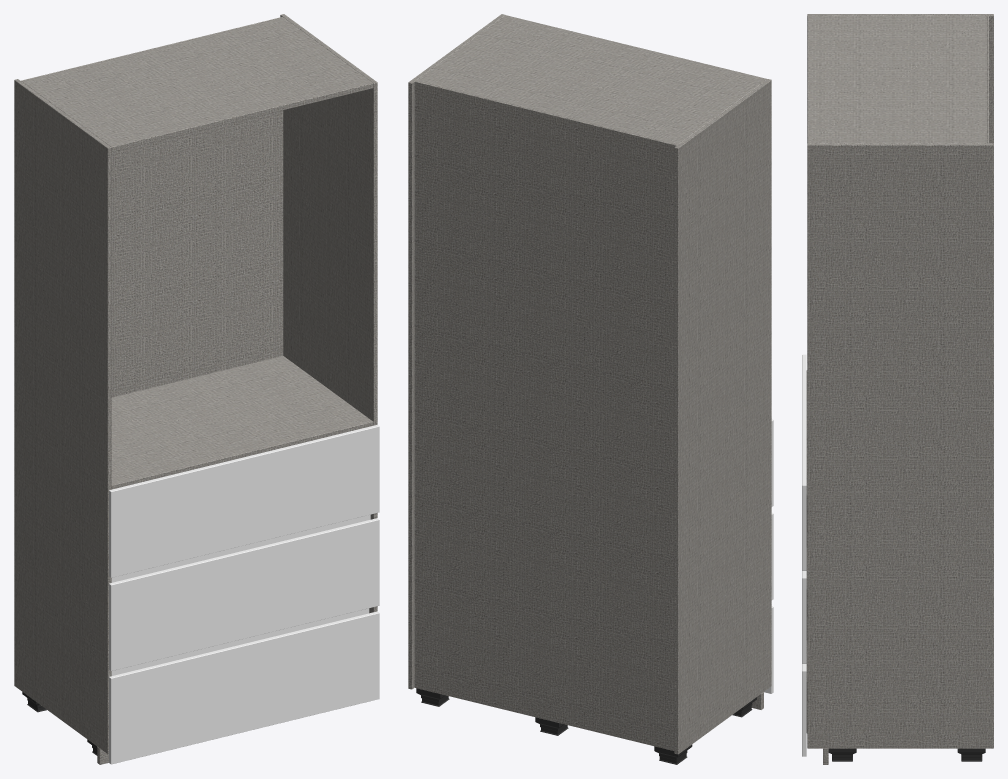
The model's file is cbib12168.gltf.
3 views of the same model, side by side, from view 1: azimuth 30°, elevation 25°; view 2: azimuth 150°, elevation 25°; view 3: azimuth 270°, elevation 25° (orthographic).
Parts seen in each view (by area): view 1: CBIB12168; view 2: CBIB12168; view 3: CBIB12168.
Boxes of the visible parts, bbox=[...] form: CBIB12168: bbox=[14, 14, 379, 764]; CBIB12168: bbox=[408, 14, 773, 764]; CBIB12168: bbox=[802, 14, 993, 764].
Size of the model in its own units: 1 by 2.2 by 0.617.
Materials: 4 (2 with a texture image).
